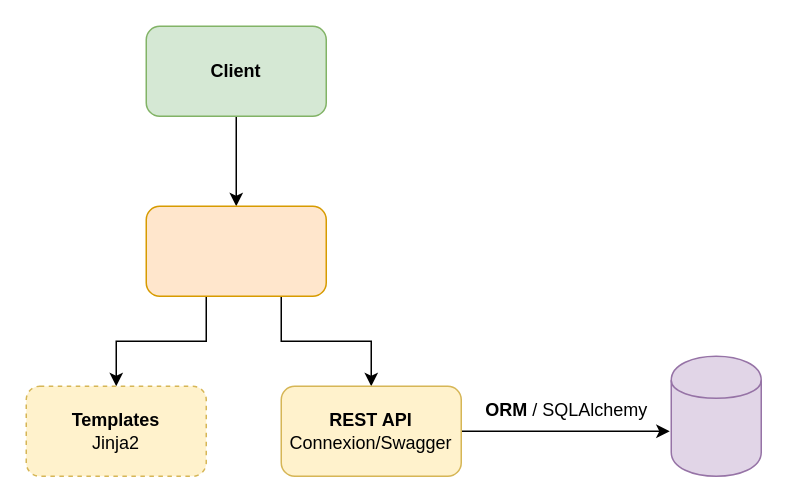
Some shapes in this 788 by 503 pixel diagram are drawn without their labels. Here are the shapes that lost their labels. From the top down, the centre of each, then its label:
At pixel 235 250: "Web Server / FW /Flask/".
At pixel 715 415: "DB".
